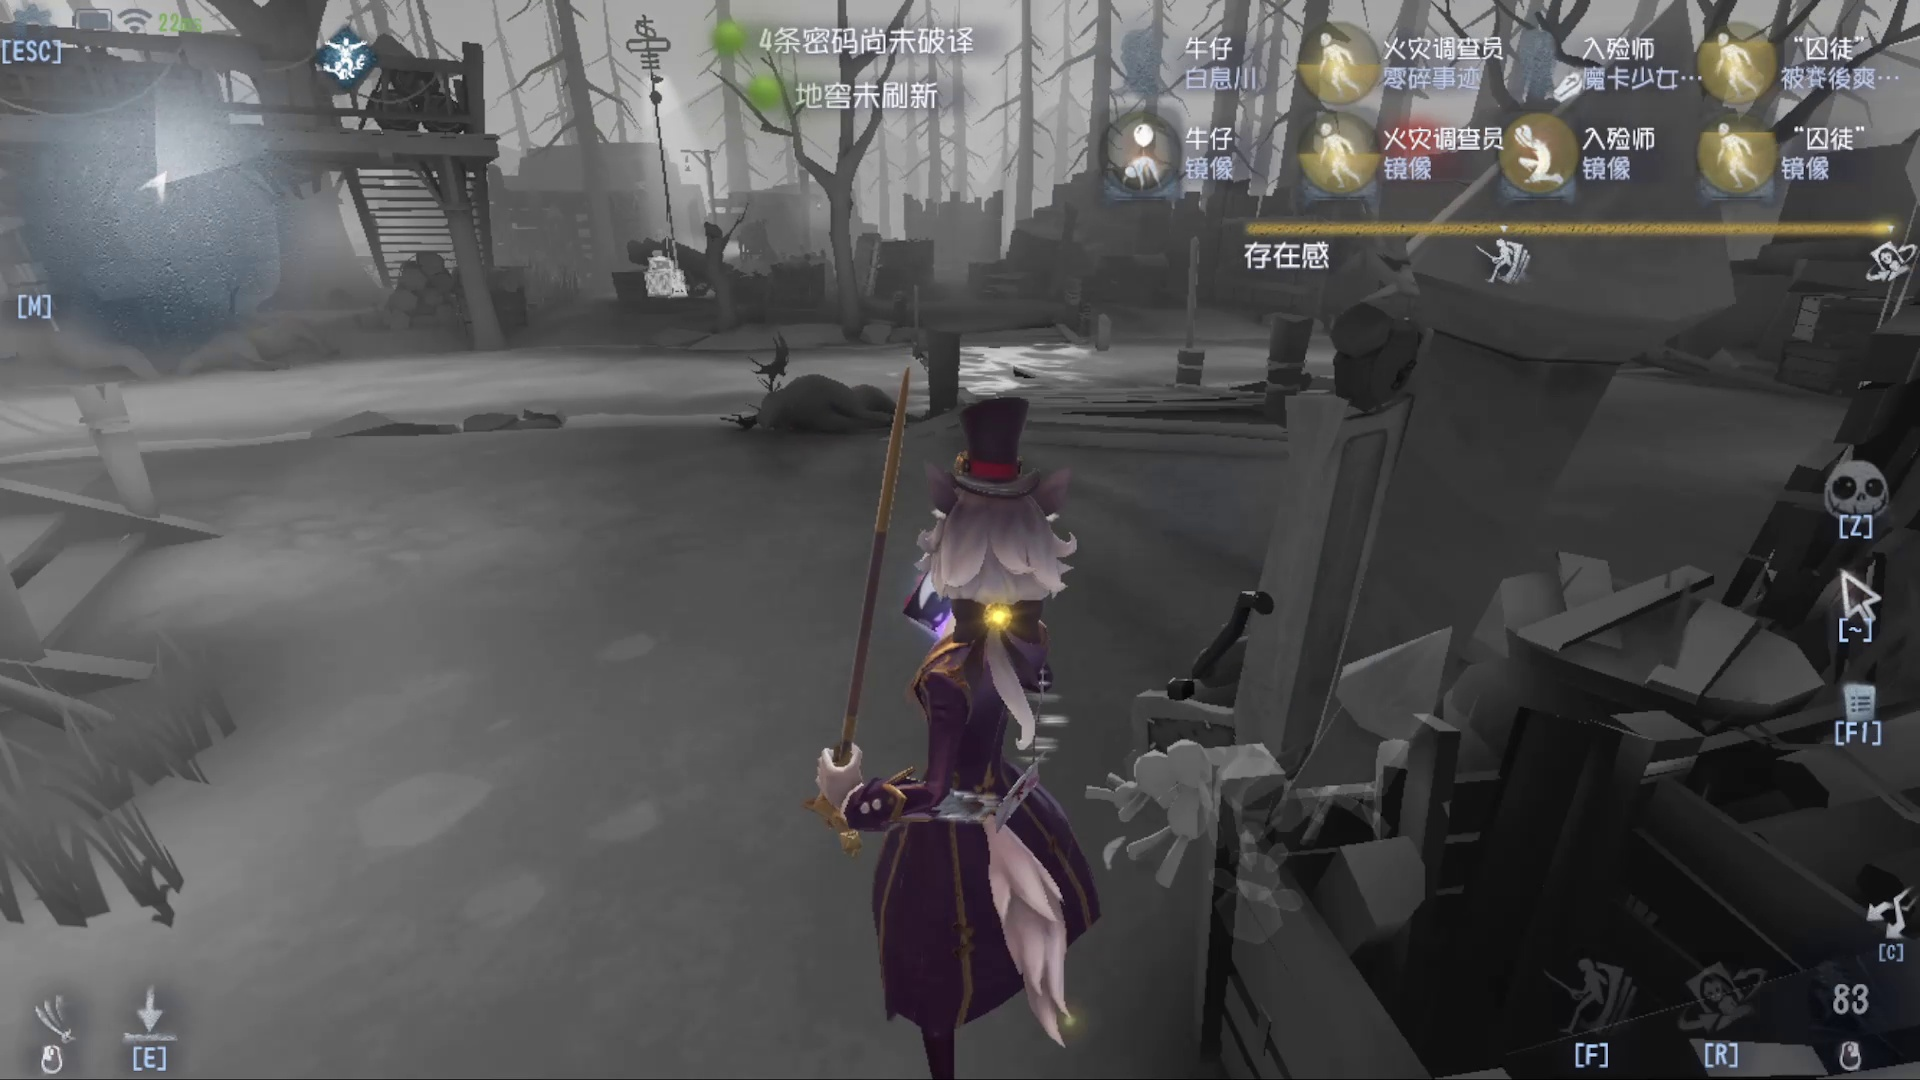密码机: (582, 9, 719, 331)
狂欢之椅: (1141, 166, 1638, 918)
